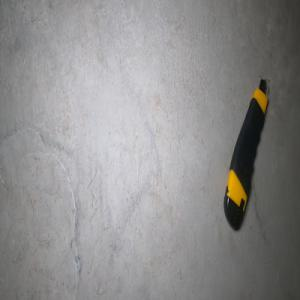Cutter: (223, 77, 269, 230)
